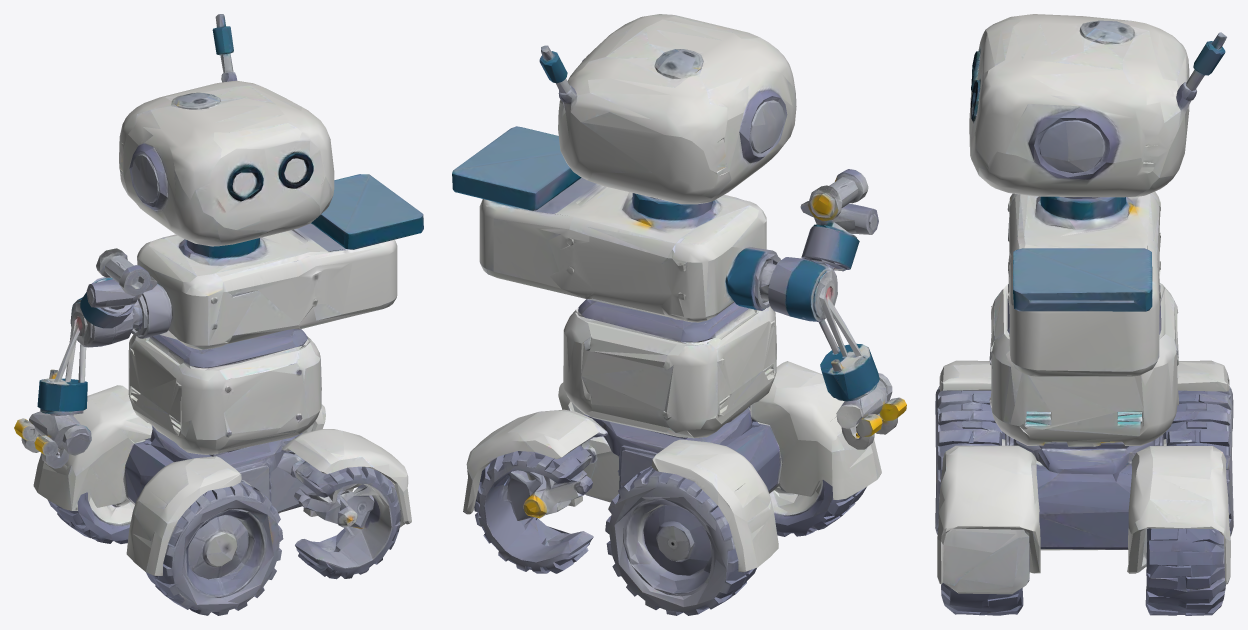
The model's file is utility-robot.gltf.
3 renders of one model, left to right at view 1: azimuth 30°, elevation 25°; view 2: azimuth 150°, elevation 25°; view 3: azimuth 270°, elevation 25°, orthographic. The views are drawn at different scales.
Size of the model in its own units: 1.52 by 1.9 by 0.908.
1 material, 1 textured.
